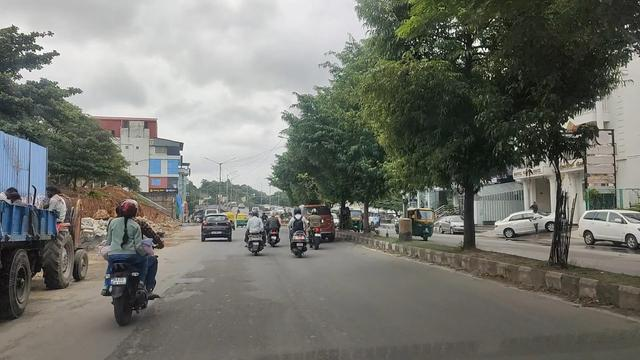LMV: (111, 200, 161, 318), (288, 207, 310, 255), (201, 212, 233, 241), (248, 209, 261, 257), (268, 207, 279, 248), (317, 209, 328, 243)
RoadDamages: (163, 262, 217, 309), (106, 327, 169, 360)
